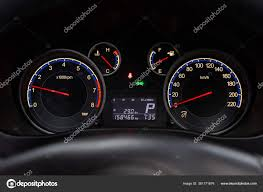Digital_Meter: (112, 113, 142, 122)
